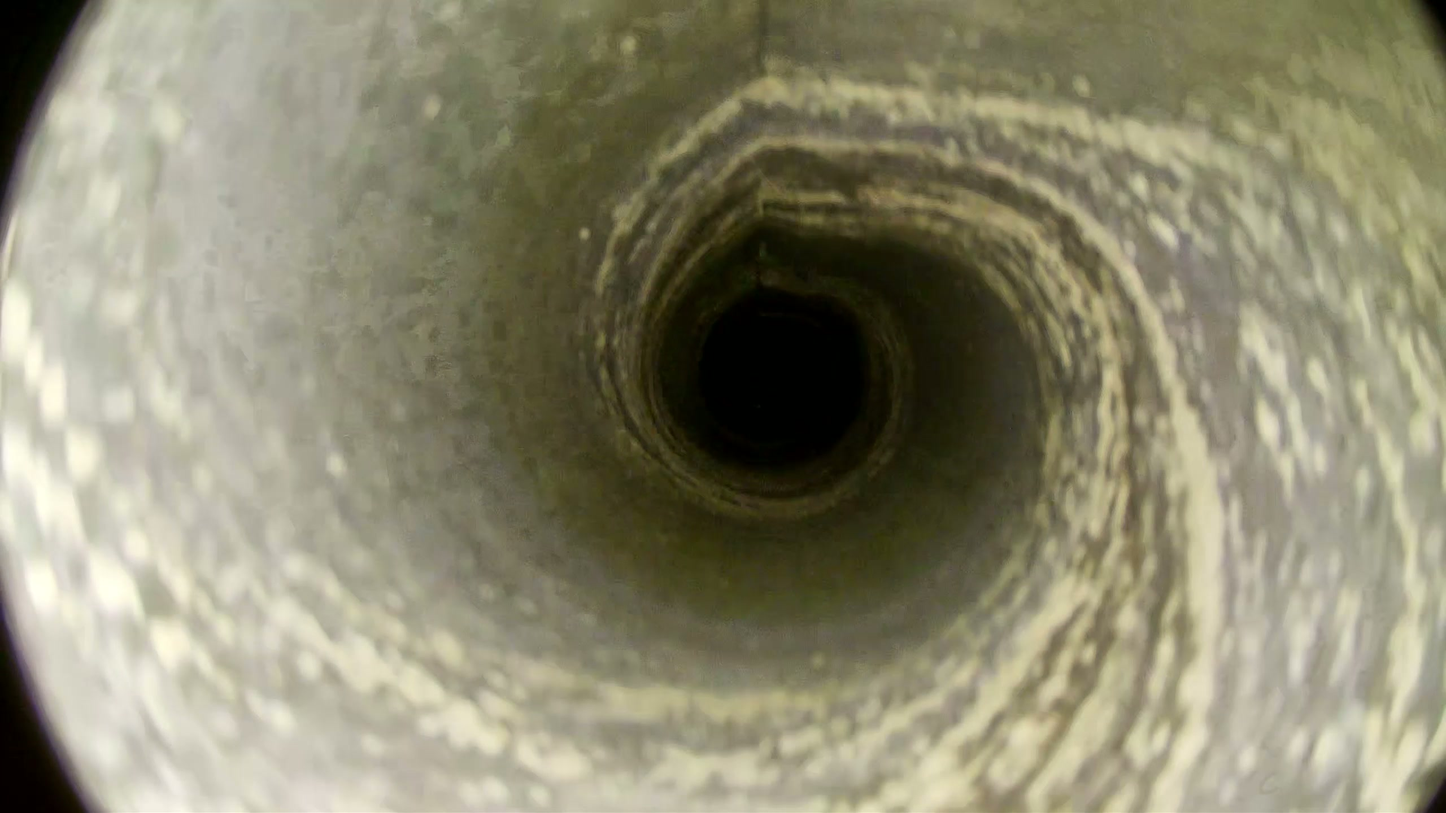hole: (702, 312, 833, 442)
